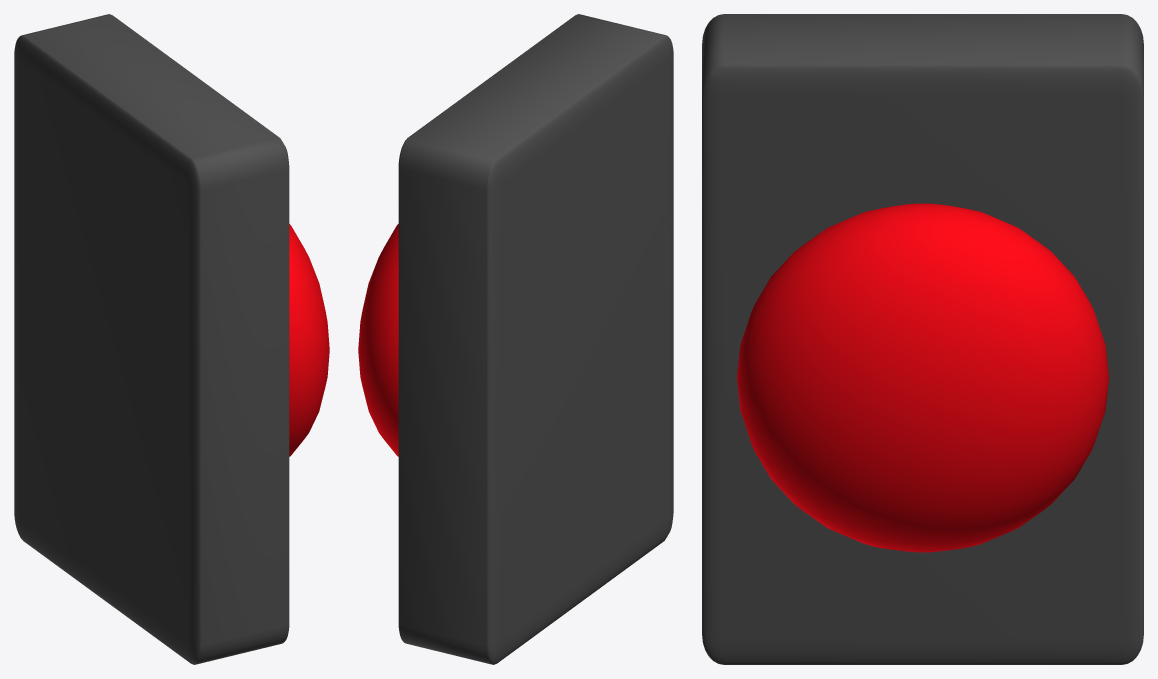
Rendered from button.dae.
3 renders of one model, left to right at view 1: azimuth 30°, elevation 25°; view 2: azimuth 150°, elevation 25°; view 3: azimuth 270°, elevation 25°, orthographic. The views are drawn at different scales.
Visible parts, largest first — view 1: metal poo, button; view 2: metal poo, button; view 3: metal poo, button.
Part boxes in pixels (x1=…): metal poo: x1=14, y1=14, x2=289, y2=664; button: x1=289, y1=224, x2=329, y2=456; metal poo: x1=398, y1=14, x2=673, y2=664; button: x1=358, y1=224, x2=398, y2=456; metal poo: x1=702, y1=14, x2=1143, y2=664; button: x1=737, y1=203, x2=1108, y2=552.
Bounding box in the file's own units: 1.21 × 2 × 3.
